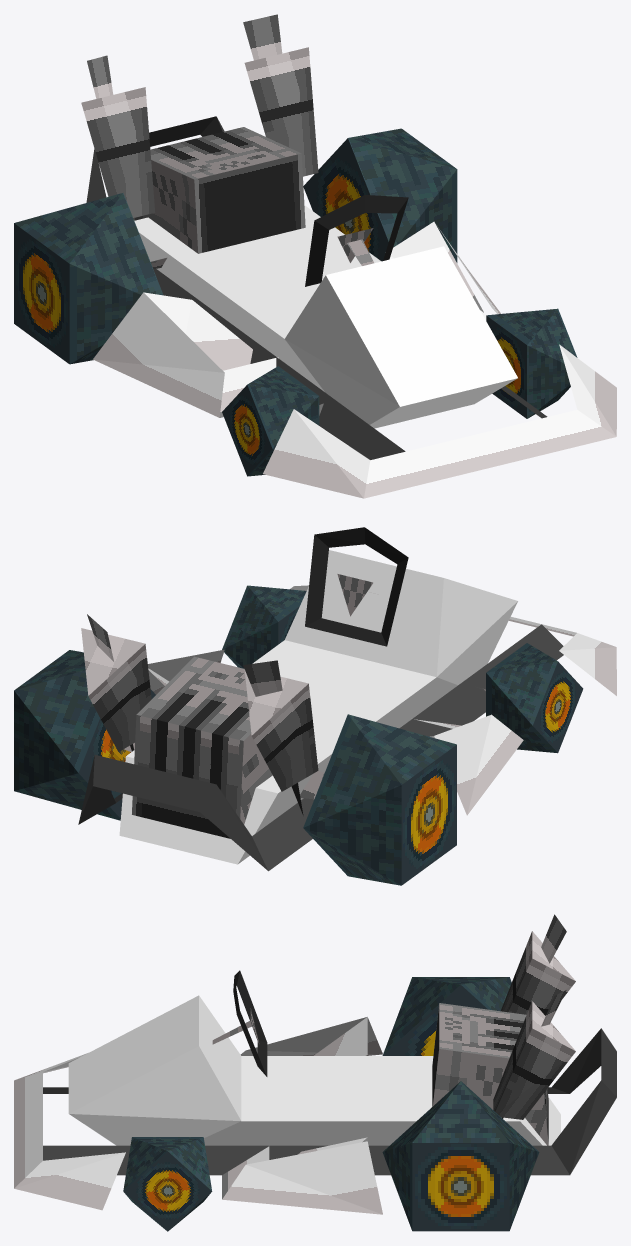
The model's file is kart.glb.
3 views of the same model, one above another, from view 1: azimuth 30°, elevation 25°; view 2: azimuth 150°, elevation 25°; view 3: azimuth 270°, elevation 25° (orthographic). The views are drawn at different scales.
Visible parts, largest first — view 1: polygon1, polygon0; view 2: polygon1, polygon0; view 3: polygon1, polygon0.
Part boxes in pixels (x1,y1,x2,y2): polygon1: (81,14,616,498); polygon0: (14,128,577,476); polygon1: (78,527,616,871); polygon0: (14,585,583,885); polygon1: (14,914,616,1214); polygon0: (123,977,539,1231).
Bounding box in the file's own units: 0.8706 × 0.5383 × 1.34.
Materials: 4 (2 with a texture image).
